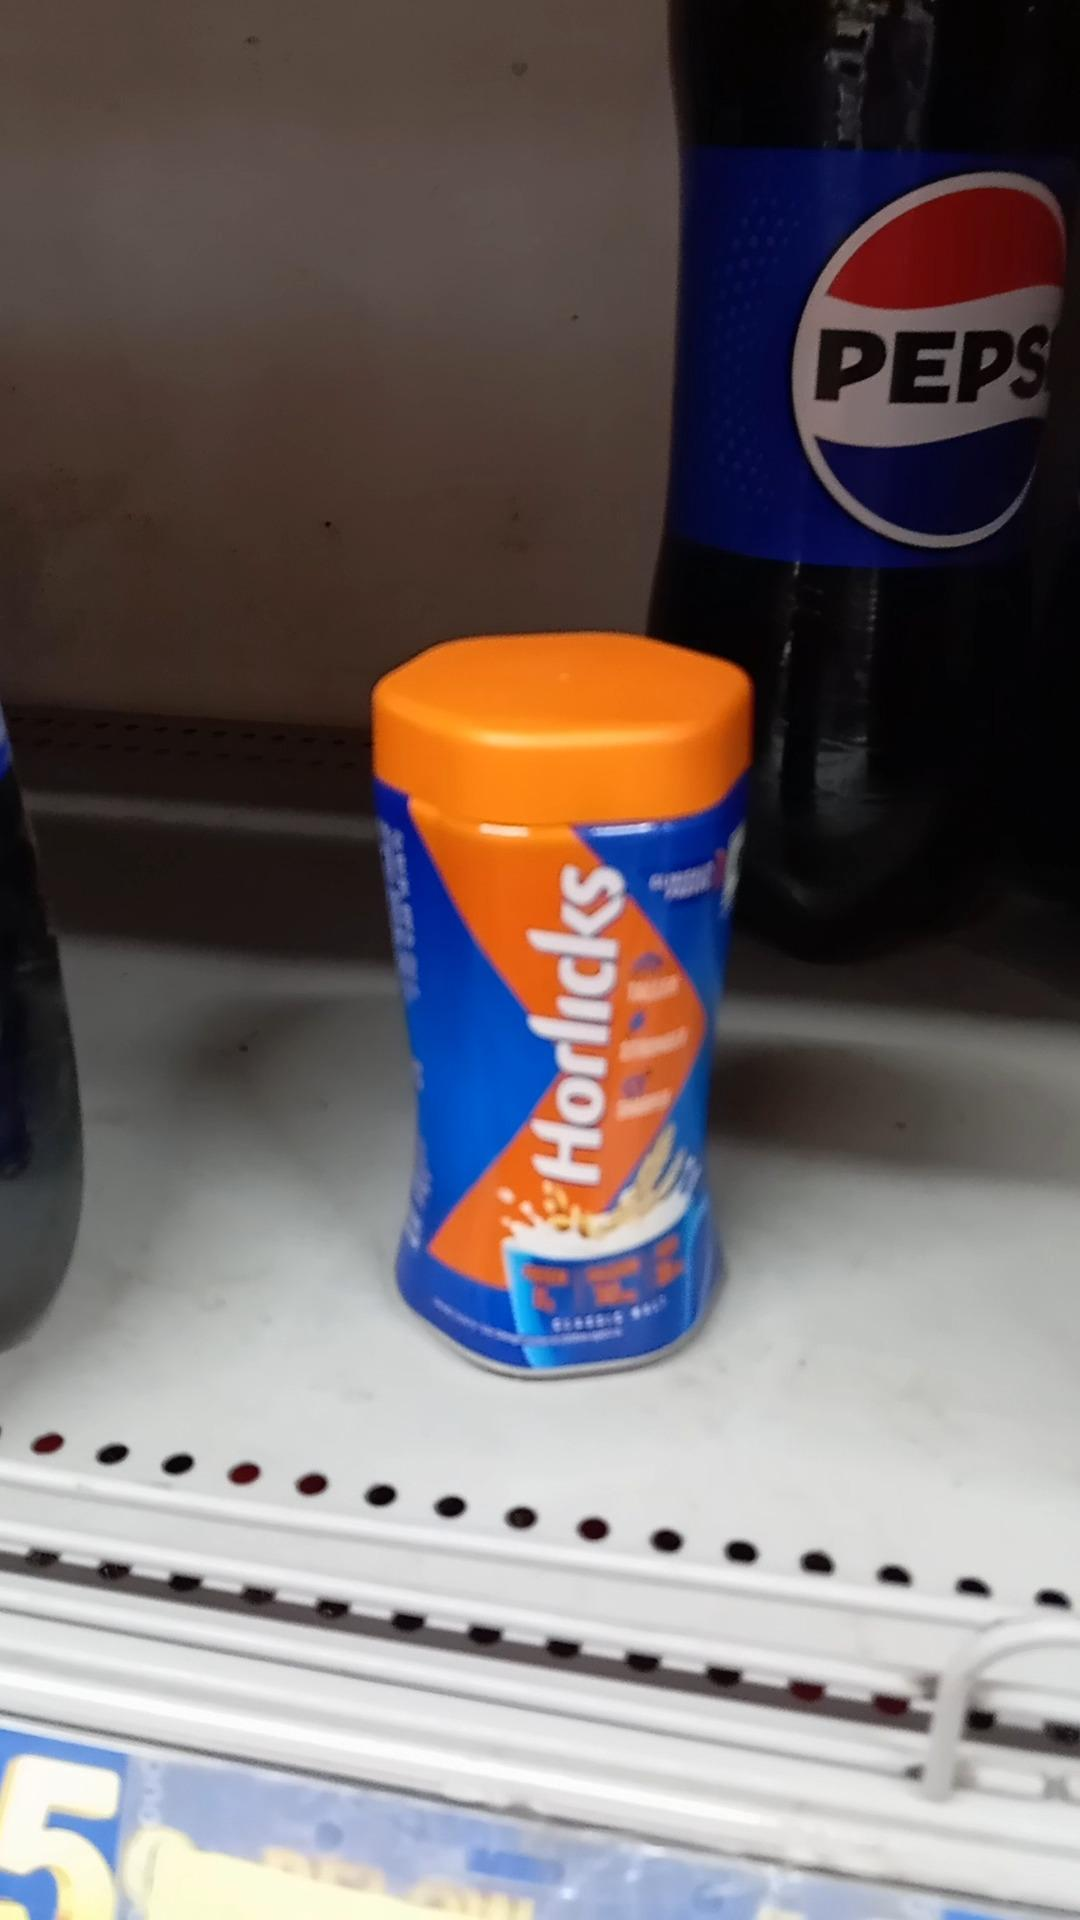HORLICK_CLASSIC_MALT_200_G_JAR: (371, 637, 744, 1371)
